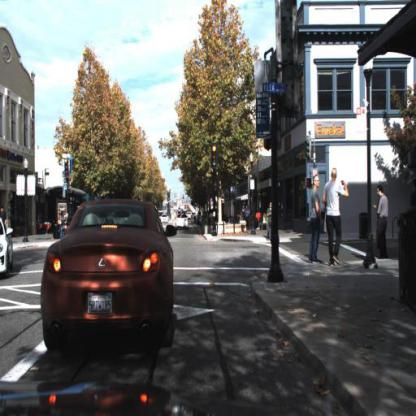car: (40, 195, 178, 374), (1, 220, 19, 277), (175, 210, 190, 234)
pedestrian: (320, 161, 348, 269), (306, 174, 327, 268), (377, 184, 391, 263), (267, 201, 276, 243), (1, 204, 9, 237), (245, 204, 252, 229), (61, 210, 66, 240)
trafficLight-Red: (211, 143, 219, 167), (64, 158, 70, 176)
